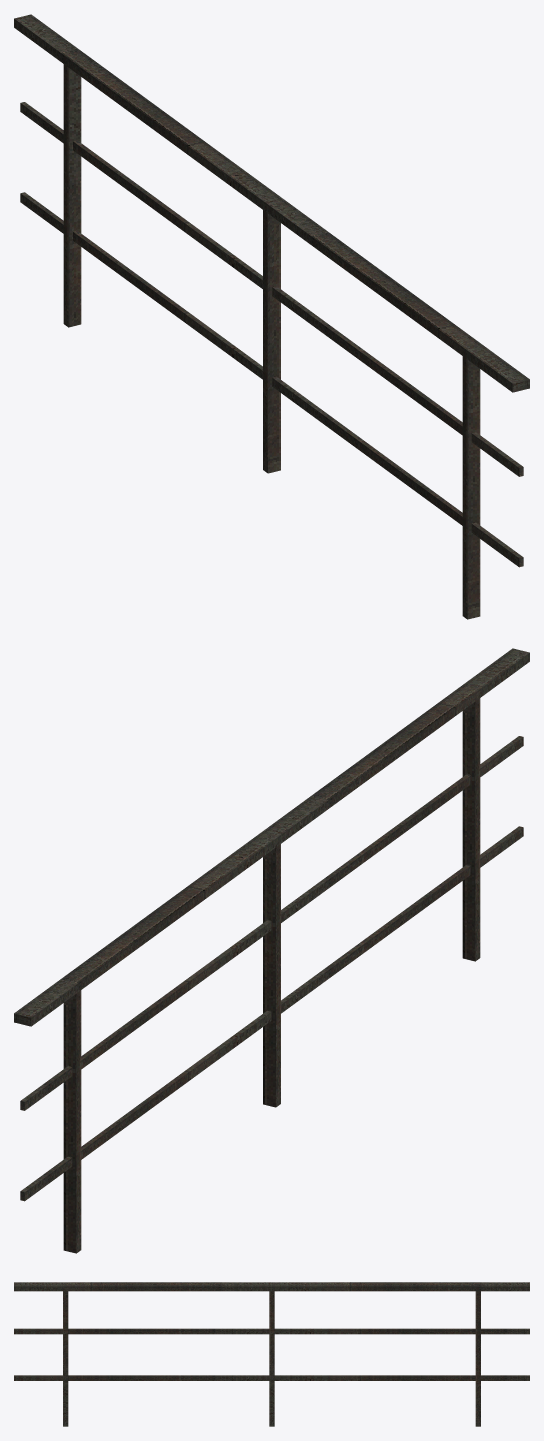
Rendered from platform_b_handrail_1.glb.
3 views of the same model, one above another, from view 1: azimuth 30°, elevation 25°; view 2: azimuth 150°, elevation 25°; view 3: azimuth 270°, elevation 25° (orthographic). The views are drawn at different scales.
Parts seen in each view (by area): view 1: platform_b_handrail_1; view 2: platform_b_handrail_1; view 3: platform_b_handrail_1.
Part boxes in pixels (x1=…): platform_b_handrail_1: x1=14, y1=14, x2=529, y2=619; platform_b_handrail_1: x1=14, y1=648, x2=529, y2=1253; platform_b_handrail_1: x1=14, y1=1282, x2=529, y2=1426.
Bounding box in the file's own units: 0.08 × 1.2 × 4.
Materials: 1 (1 with a texture image).
